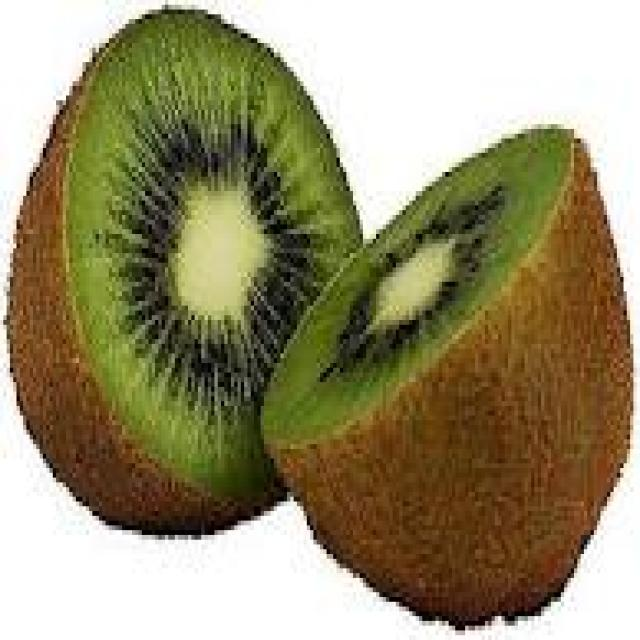kiwi: (0, 0, 633, 635)
